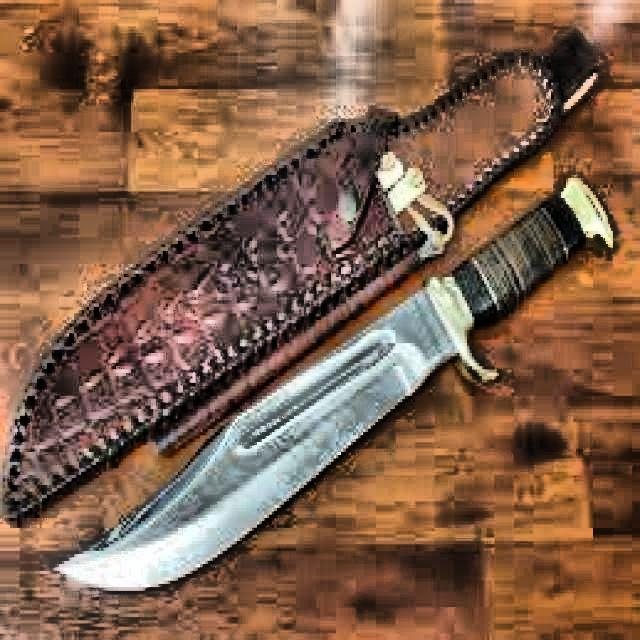knife: (53, 170, 616, 596)
